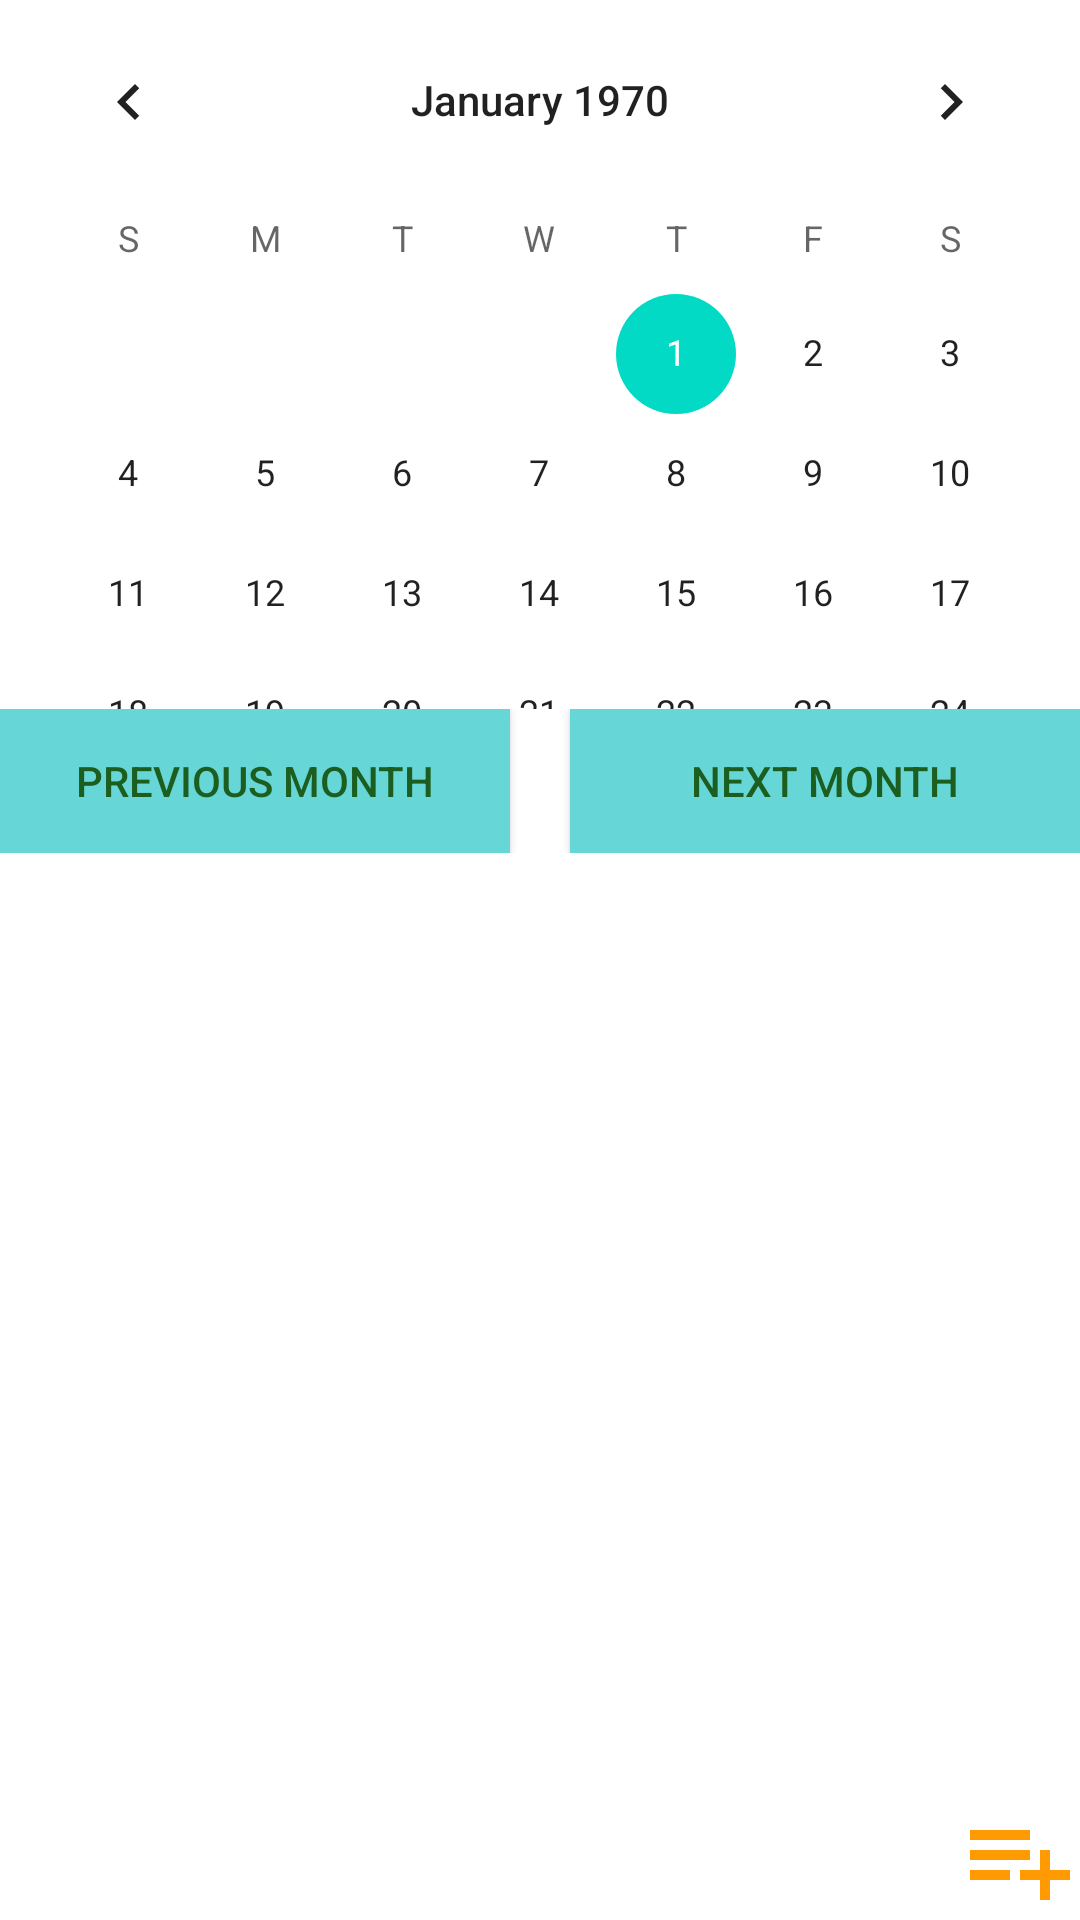

Point at icon controls on the screen. Image size 1080 × 1920, points as point (x, y).
add: point (1020, 1865)
